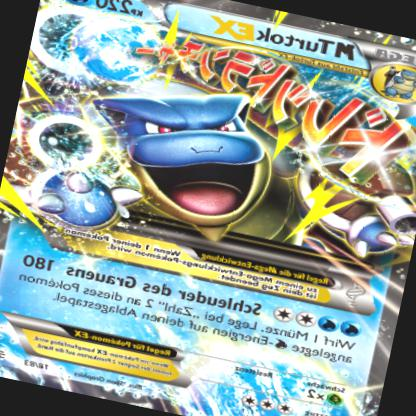Blastoise: (59, 62, 297, 259)
